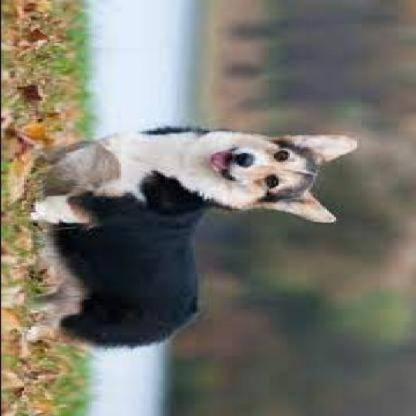dog: (30, 122, 362, 355)
